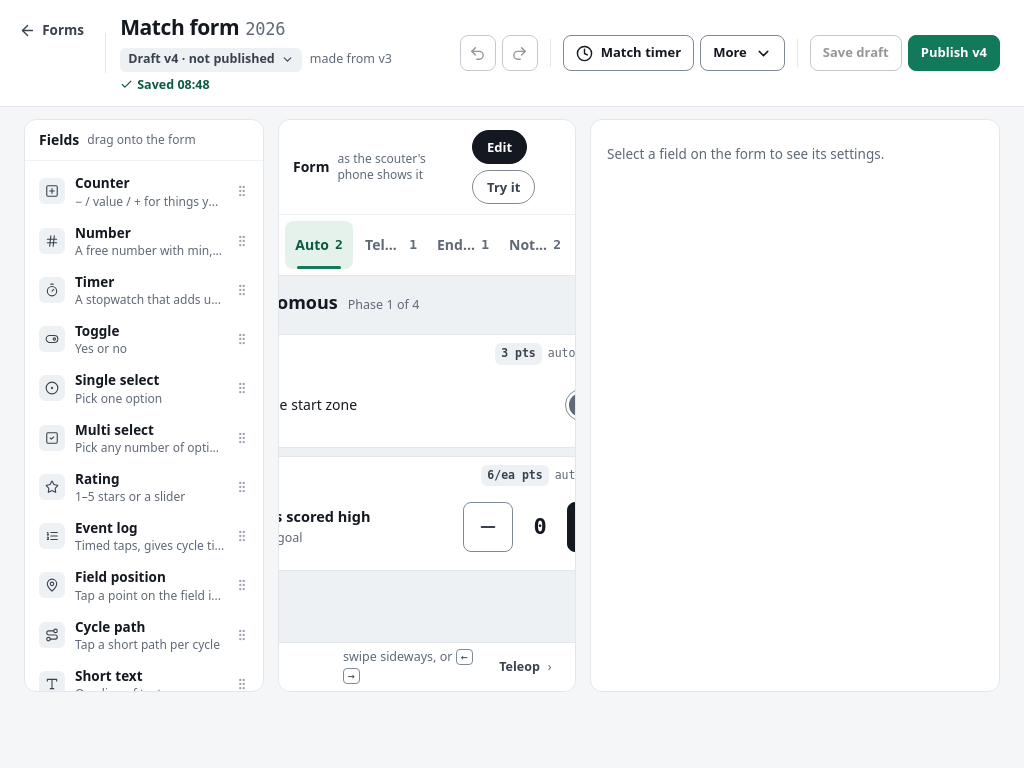
Test: Builder undo and redo (UF.14) › a points edit is a step of its own, and an undo brings a field back with its points
The image size is (1024, 768).
Expected: the element "Form" is shown, [278,119,576,692]
Click the button with aria-label "Add Counter:": [144, 191] box [31,167,257,216]
(page scrolled)
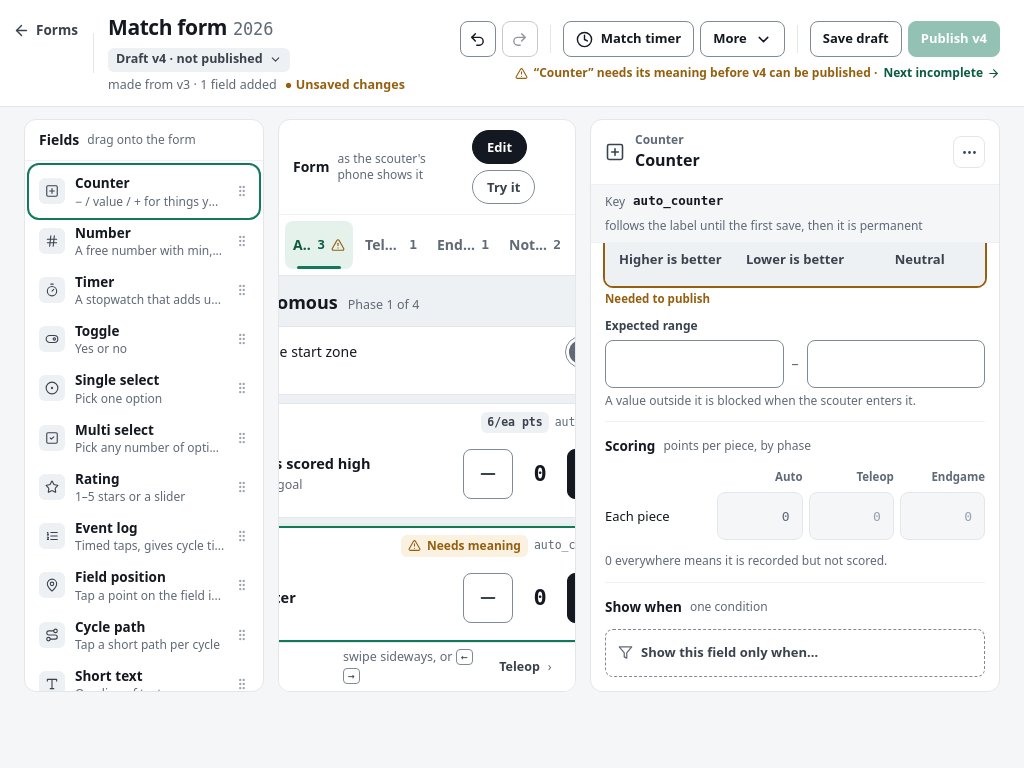
Replace the text in the field named "Points per unit" with "5": [760, 516] box [717,492,803,540]
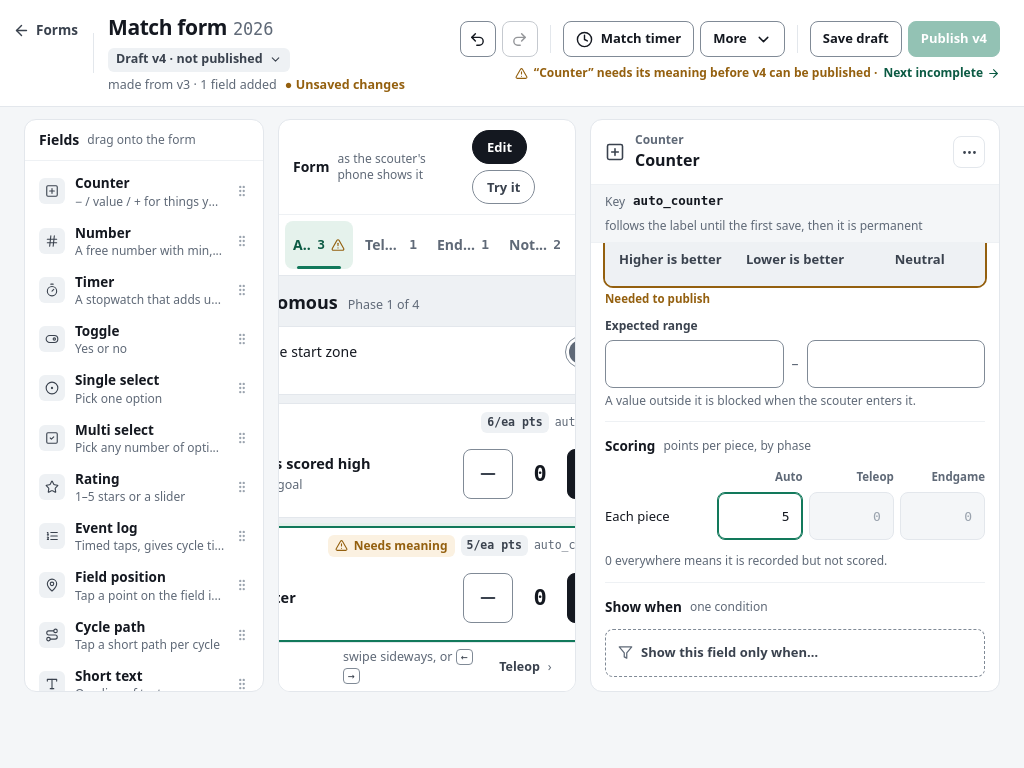
Now the text "5/ea pts" is shown, box [460,535,528,556]
Type keys "{Control>}z{/Control}"
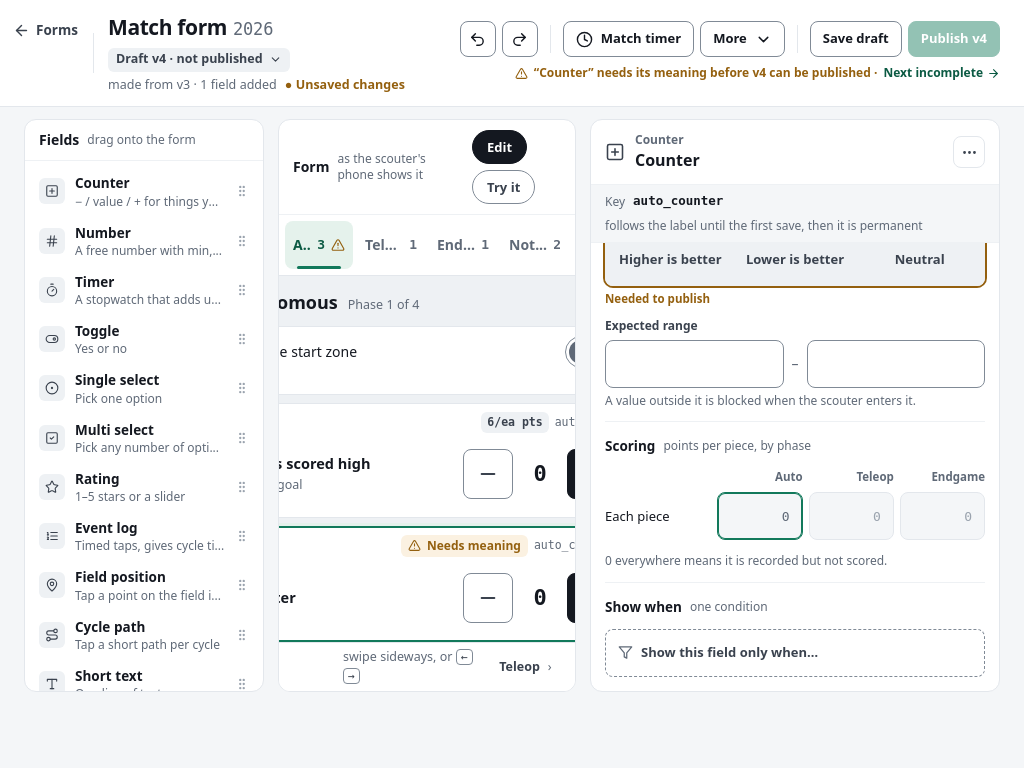
Now the text "5/ea pts" is gone
Type keys "{Control>}z{/Control}"
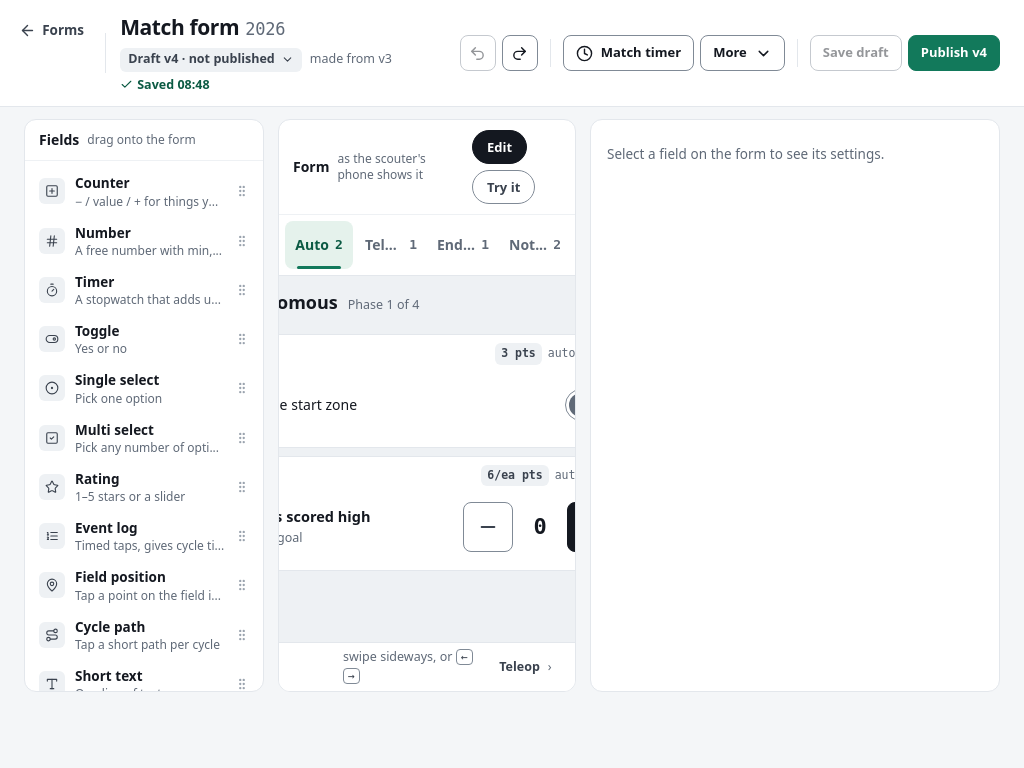
Now the text "auto_counter" is gone
Now the message "Saved 08:48" no longer shows "Unsaved changes", box [120,76,210,94]
Click the button named "Redo": [520, 53] box [502,35,538,71]
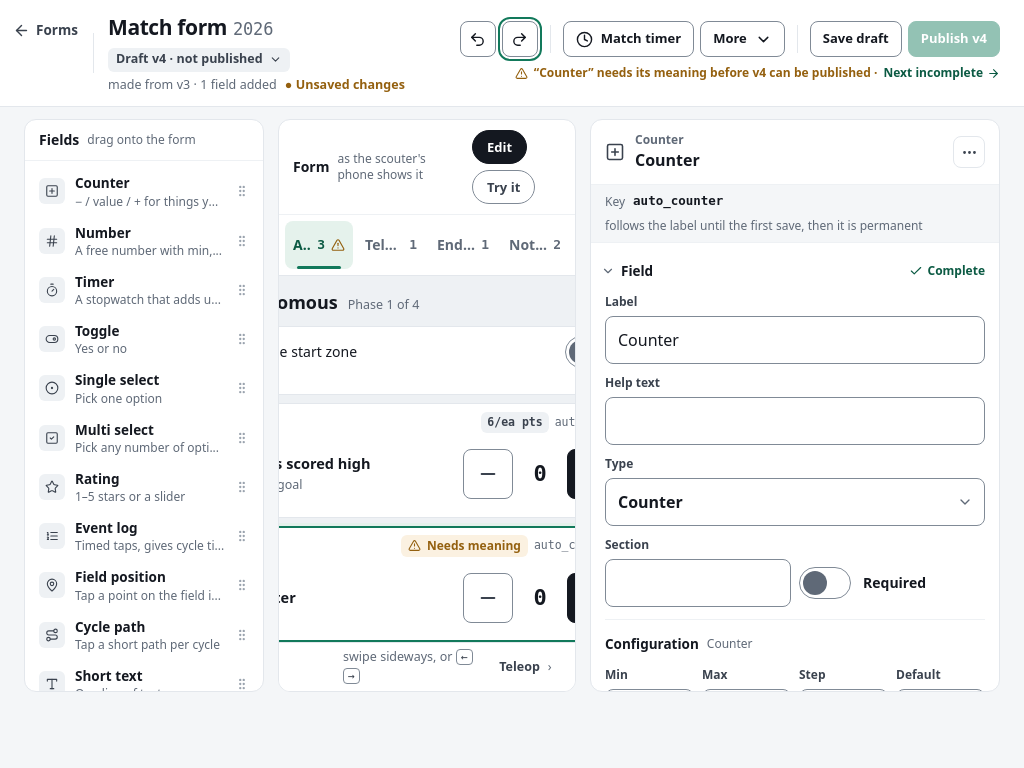
Click the button named "Redo": [520, 39] box [502,21,538,57]
(page scrolled)
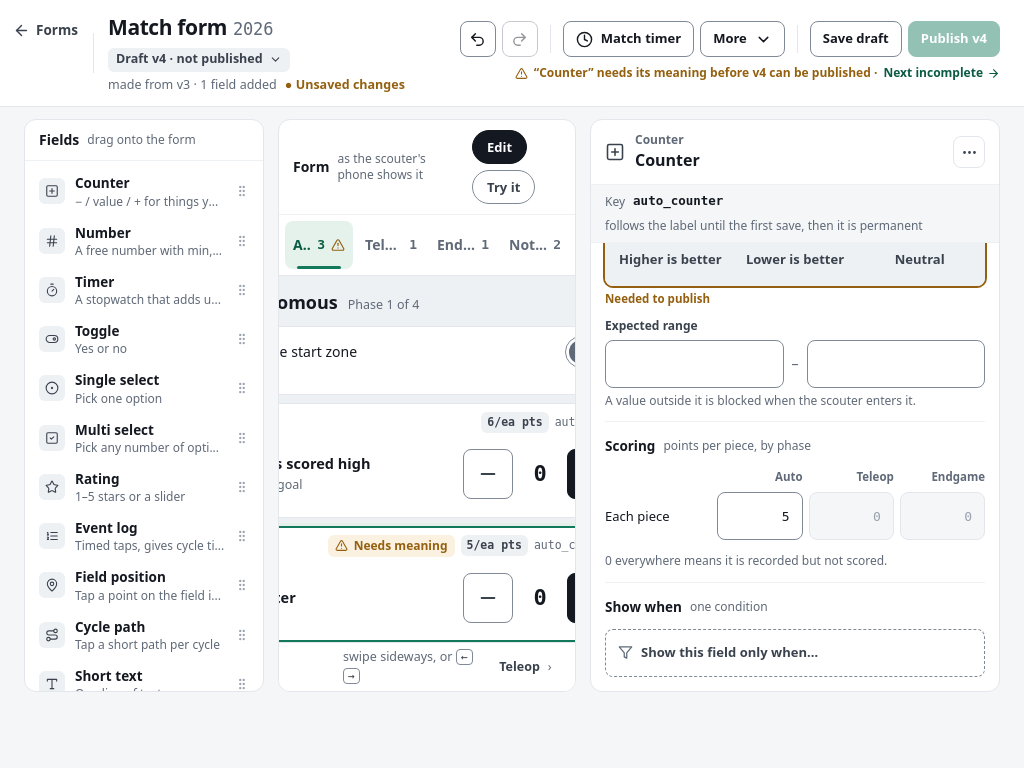
Now the text "5/ea pts" is shown, box [460,535,528,556]
Now the field named "Points per unit" holds "5", box [717,492,803,540]
